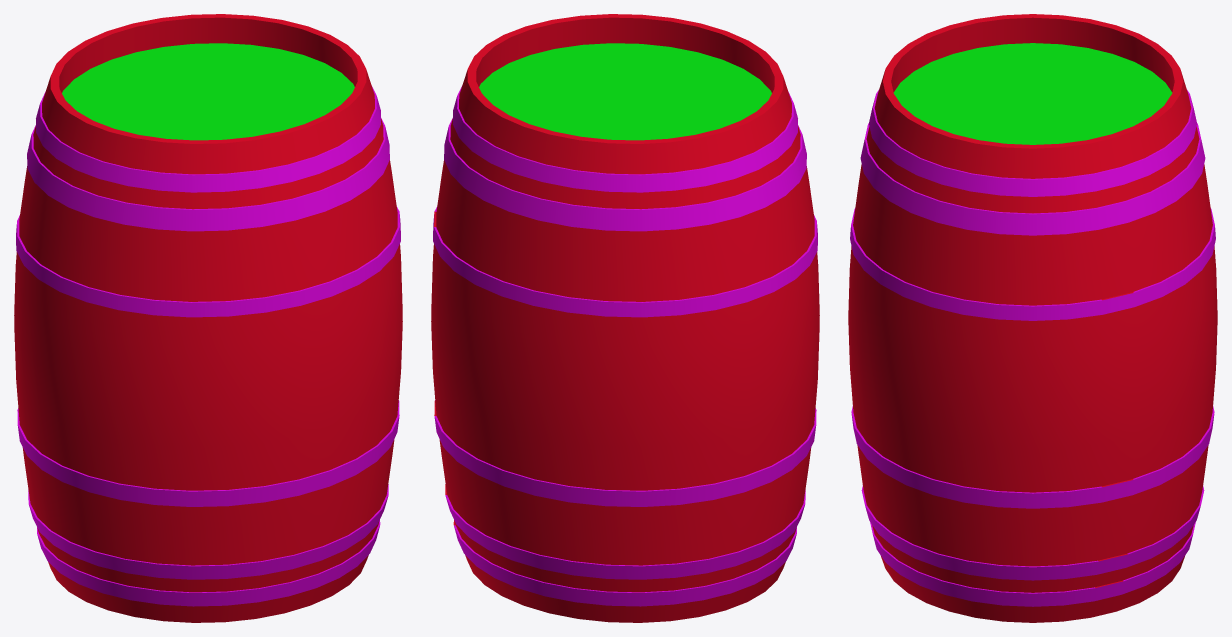
The picture shows the model from 3 angles, left to right: view 1: azimuth 30°, elevation 25°; view 2: azimuth 150°, elevation 25°; view 3: azimuth 270°, elevation 25°; orthographic projection.
Visible parts, largest first — view 1: Cylinder; view 2: Cylinder; view 3: Cylinder.
Part boxes in pixels (x1,y1,x2,y2): Cylinder: (14,14,402,622); Cylinder: (431,14,819,622); Cylinder: (848,14,1217,622).
Bounding box in the file's own units: 2.23 × 2.98 × 2.1.
